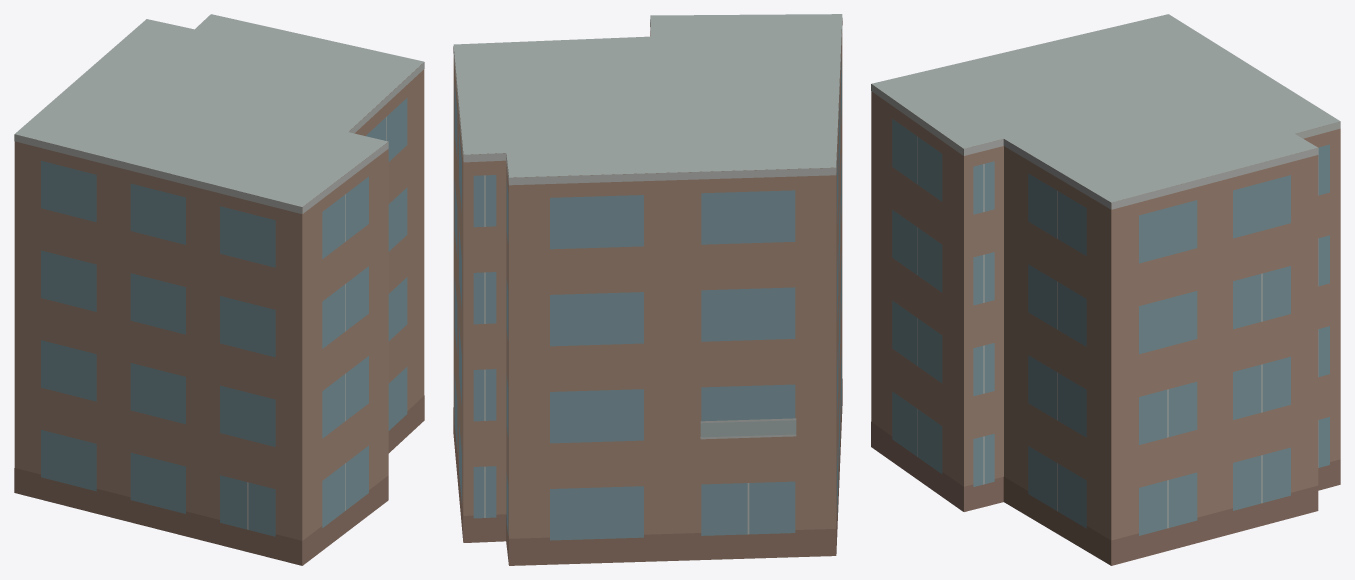
File: survey-upis-32661598.glb
The picture shows the model from 3 angles, left to right: view 1: azimuth 30°, elevation 25°; view 2: azimuth 150°, elevation 25°; view 3: azimuth 270°, elevation 25°; orthographic projection. The views are drawn at different scales.
Visible parts, largest first — view 1: survey-upis-32661598.tmp; view 2: survey-upis-32661598.tmp; view 3: survey-upis-32661598.tmp.
Boxes of the visible parts, x1,y1,x2,y2 form: survey-upis-32661598.tmp: (14,14,424,565); survey-upis-32661598.tmp: (453,14,842,565); survey-upis-32661598.tmp: (871,14,1340,565).
Size of the model in its own units: 13.76 by 12.35 by 14.48.
